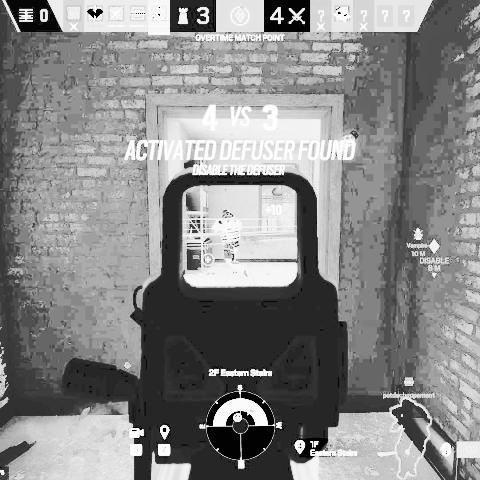Character: (210, 208, 250, 279)
Friend_label: (382, 376, 436, 399), (198, 253, 219, 271)
Head: (221, 208, 234, 219)
